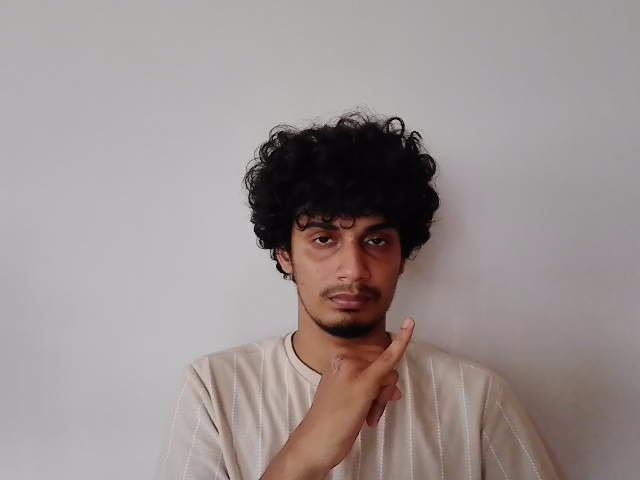bad: (311, 315, 417, 459)
